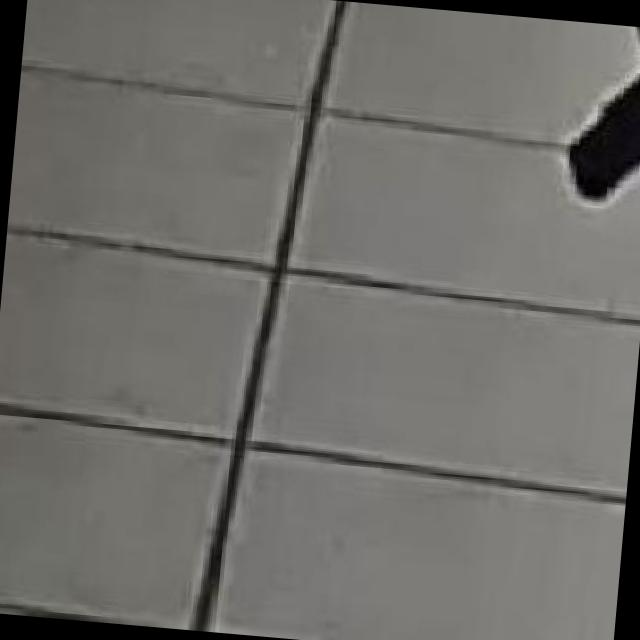Guns: (543, 19, 640, 214)
